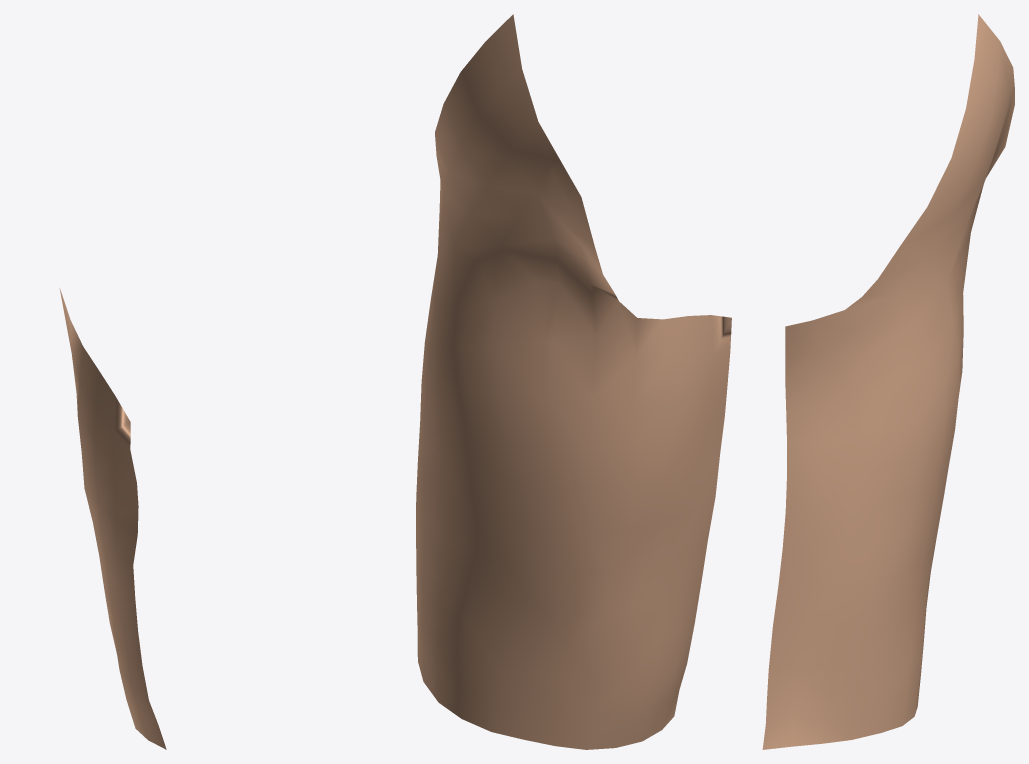
Rendered from posterior-region-of-arm-l.glb.
The picture shows the model from 3 angles, left to right: view 1: azimuth 30°, elevation 25°; view 2: azimuth 150°, elevation 25°; view 3: azimuth 270°, elevation 25°; orthographic projection. The views are drawn at different scales.
Parts seen in each view (by area): view 1: Posterior region of arm.l; view 2: Posterior region of arm.l; view 3: Posterior region of arm.l.
Part boxes in pixels (bbox=[...]): Posterior region of arm.l: bbox=[59, 288, 166, 749]; Posterior region of arm.l: bbox=[416, 14, 731, 749]; Posterior region of arm.l: bbox=[762, 14, 1014, 749].
Bounding box in the file's own units: 0.0936 × 0.227 × 0.0766.
